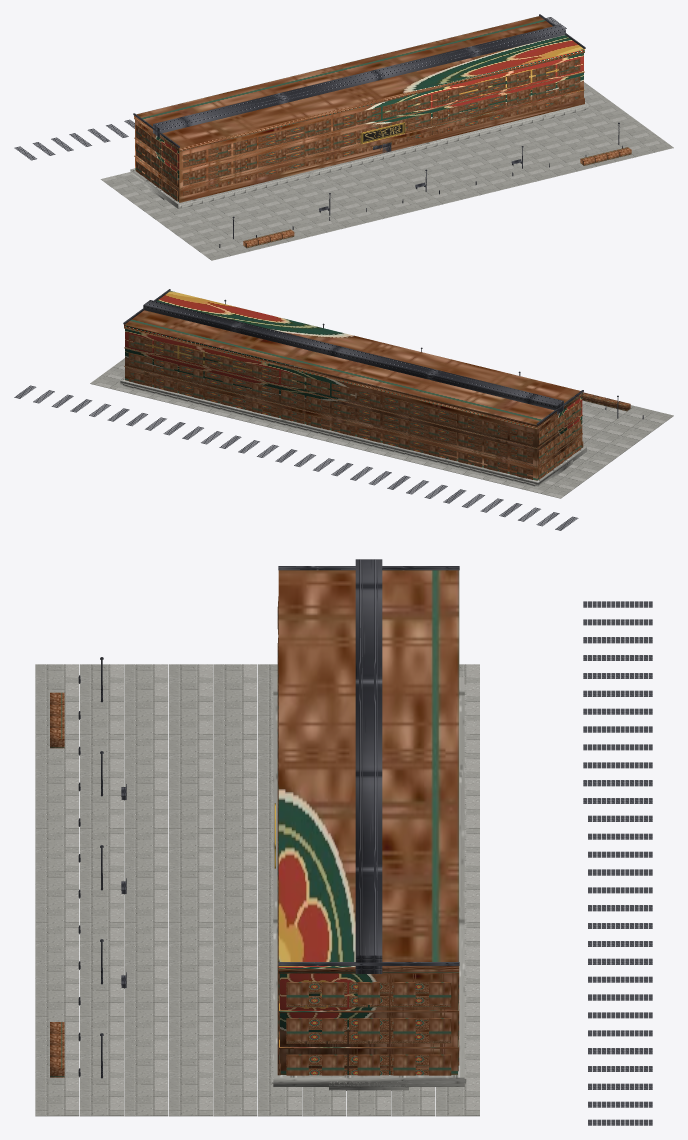
3 views of the same model, one above another, from view 1: azimuth 30°, elevation 25°; view 2: azimuth 150°, elevation 25°; view 3: azimuth 270°, elevation 25° (orthographic). The views are drawn at different scales.
Parts seen in each view (by area): view 1: 11140_02_04548_019_02__mass_body_facade, 11140_02_04548_019_01__plinth_ground_base, 11140_02_04548_019_03__roof_metal_ornament, 11140_02_04548_019_05__window_sash_glass, 11140_02_04548_019_06__landscape_greenery, 11140_02_04548_019_03__roof_deck_structure, 11140_02_04548_019_05__door_hardware_iron, 11140_02_04548_019_04__sign_board; view 2: 11140_02_04548_019_02__mass_body_facade, 11140_02_04548_019_01__plinth_ground_base, 11140_02_04548_019_03__roof_metal_ornament, 11140_02_04548_019_03__roof_deck_structure, 11140_02_04548_019_06__landscape_greenery; view 3: 11140_02_04548_019_01__plinth_ground_base, 11140_02_04548_019_02__mass_body_facade, 11140_02_04548_019_03__roof_deck_structure, 11140_02_04548_019_03__roof_metal_ornament, 11140_02_04548_019_06__landscape_greenery, 11140_02_04548_019_05__door_hardware_iron.
Part boxes in pixels (x1=…): 11140_02_04548_019_02__mass_body_facade: x1=134, y1=16, x2=584, y2=202; 11140_02_04548_019_01__plinth_ground_base: x1=100, y1=82, x2=673, y2=260; 11140_02_04548_019_03__roof_metal_ornament: x1=133, y1=14, x2=585, y2=147; 11140_02_04548_019_05__window_sash_glass: x1=195, y1=61, x2=569, y2=195; 11140_02_04548_019_06__landscape_greenery: x1=243, y1=147, x2=631, y2=247; 11140_02_04548_019_03__roof_deck_structure: x1=14, y1=17, x2=566, y2=160; 11140_02_04548_019_05__door_hardware_iron: x1=219, y1=122, x2=622, y2=247; 11140_02_04548_019_04__sign_board: x1=361, y1=123, x2=404, y2=143; 11140_02_04548_019_02__mass_body_facade: x1=124, y1=291, x2=583, y2=480; 11140_02_04548_019_01__plinth_ground_base: x1=90, y1=358, x2=673, y2=498; 11140_02_04548_019_03__roof_metal_ornament: x1=123, y1=289, x2=583, y2=425; 11140_02_04548_019_03__roof_deck_structure: x1=14, y1=385, x2=578, y2=530; 11140_02_04548_019_06__landscape_greenery: x1=582, y1=392, x2=630, y2=411; 11140_02_04548_019_01__plinth_ground_base: x1=35, y1=664, x2=479, y2=1116; 11140_02_04548_019_02__mass_body_facade: x1=277, y1=570, x2=459, y2=1075; 11140_02_04548_019_03__roof_deck_structure: x1=583, y1=601, x2=652, y2=1125; 11140_02_04548_019_03__roof_metal_ornament: x1=278, y1=559, x2=459, y2=973; 11140_02_04548_019_06__landscape_greenery: x1=50, y1=692, x2=64, y2=1077; 11140_02_04548_019_05__door_hardware_iron: x1=78, y1=657, x2=277, y2=1078.
Bounding box in the file's own units: 112 × 13.2 × 55.48.
Materials: 7 (7 with a texture image).
